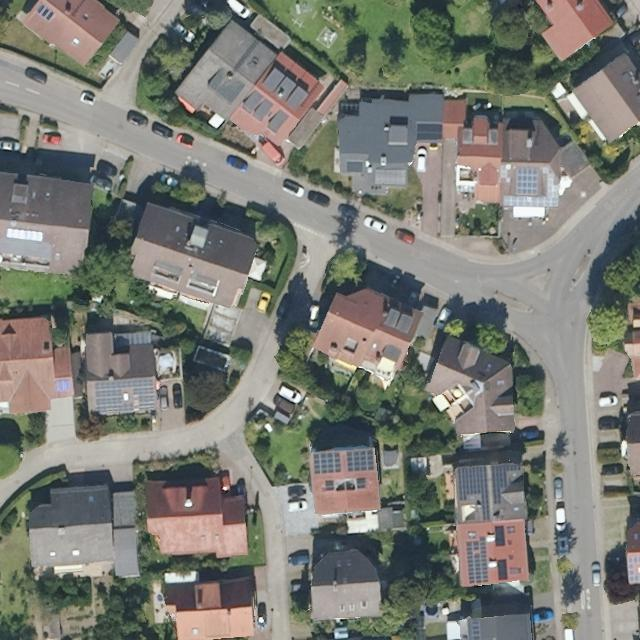PV: (92, 375, 160, 415), (454, 464, 492, 522), (463, 531, 492, 587), (490, 462, 523, 505), (312, 450, 345, 478), (345, 448, 376, 474), (514, 166, 540, 196)
